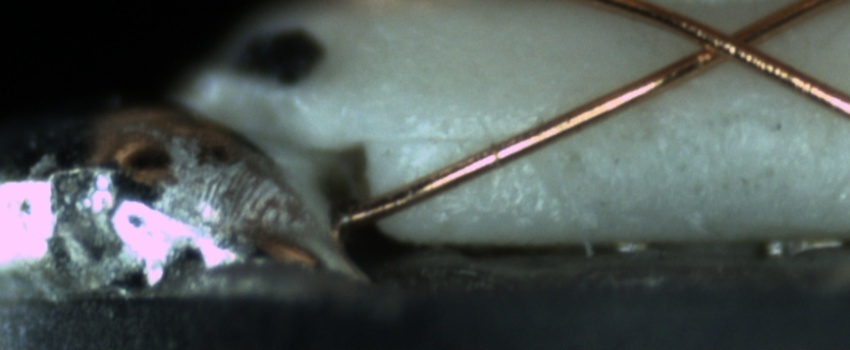CL: (676, 13, 780, 71)
DL: (390, 106, 511, 165)
